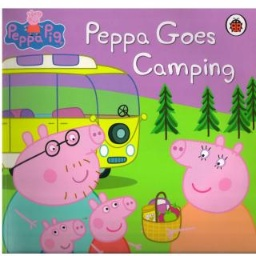Peppa: (87, 191, 139, 256)
